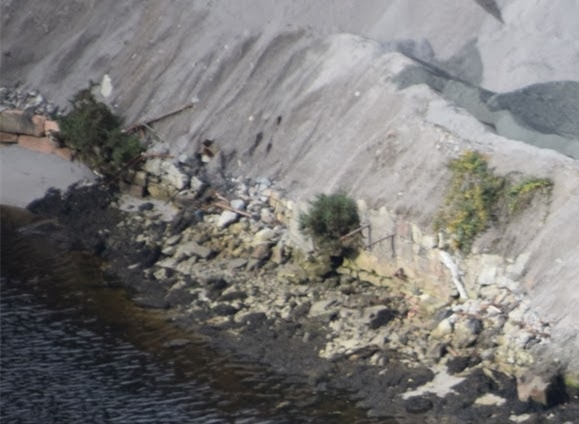straight_bar: (116, 100, 199, 135)
tube: (211, 194, 255, 227)
